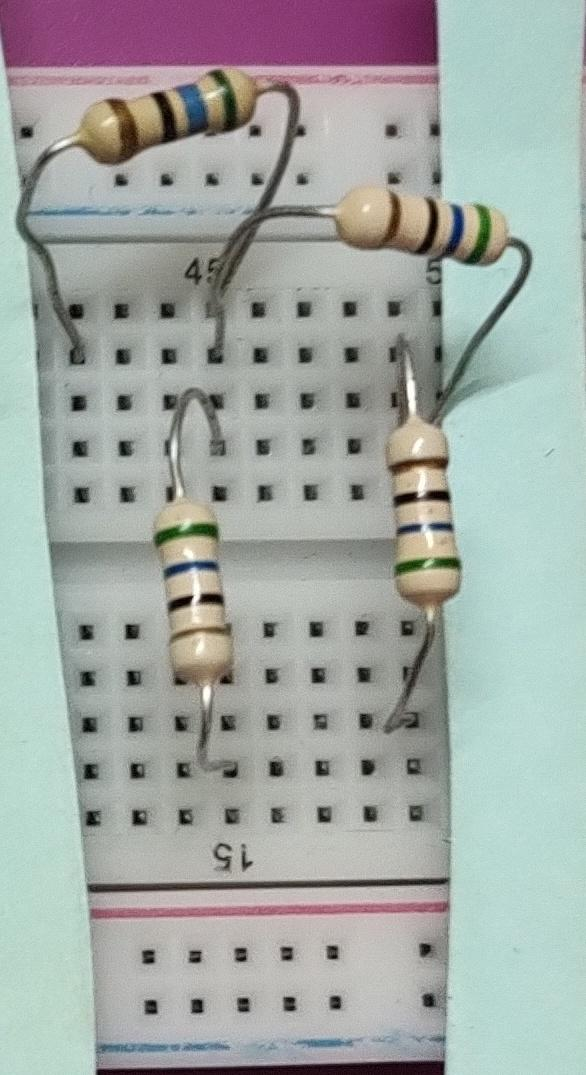resistor: (373, 409, 482, 622), (145, 483, 243, 699), (63, 63, 262, 169), (325, 175, 523, 275)
